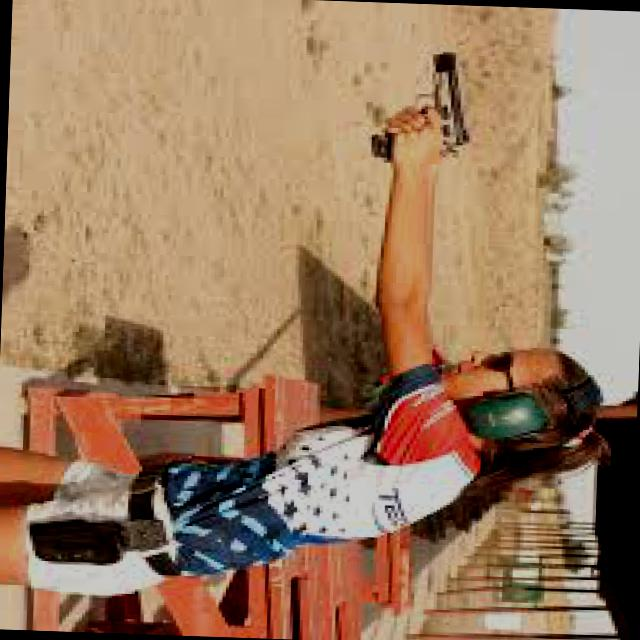handgun: (376, 42, 490, 168)
